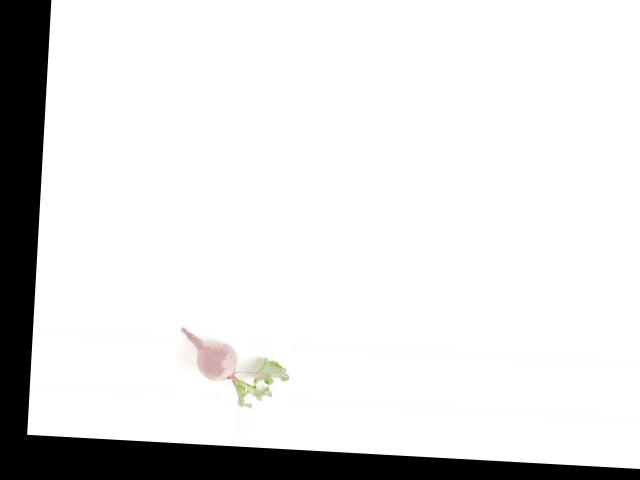beet: (177, 327, 292, 410)
